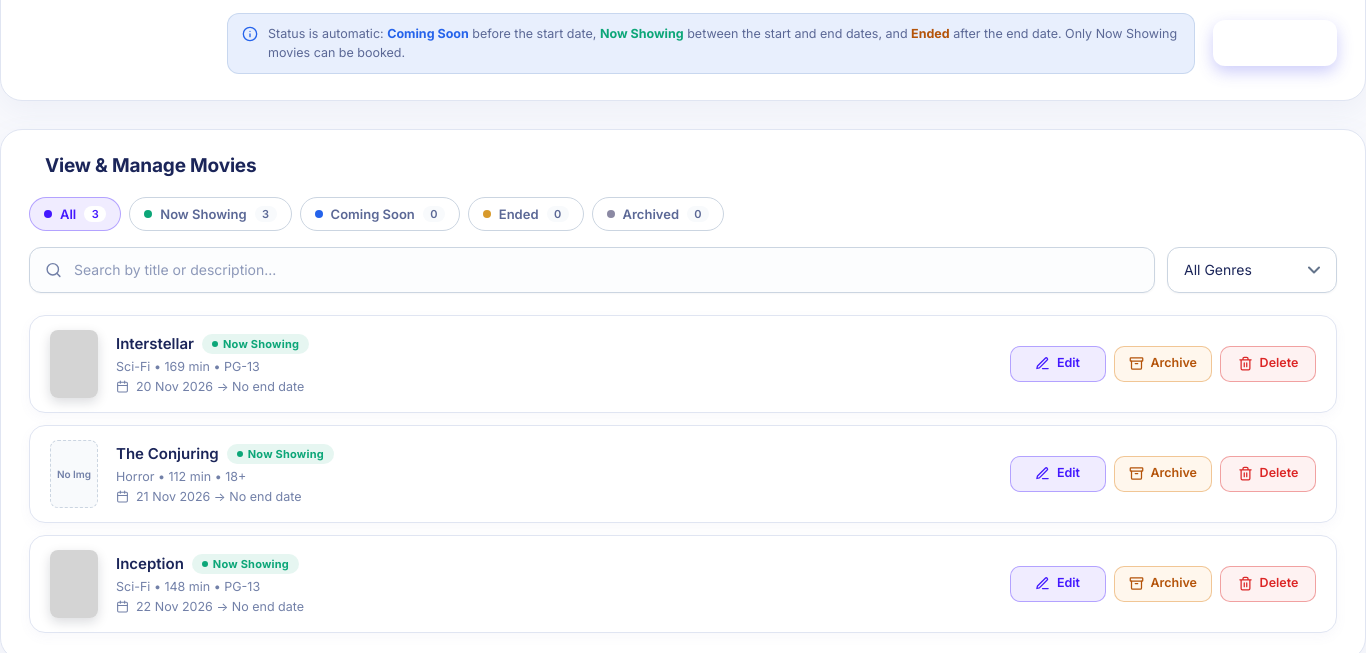
Test case: Admin Movies Page › should filter movies by title using the search field
(page scrolled)
Expected: the text "Interstellar" is shown, left=116, top=334, right=194, bottom=353
Type "Interstellar" into the field with placeholder "Search by title or description..." at (592, 270), box left=29, top=247, right=1155, bottom=293
(page scrolled)
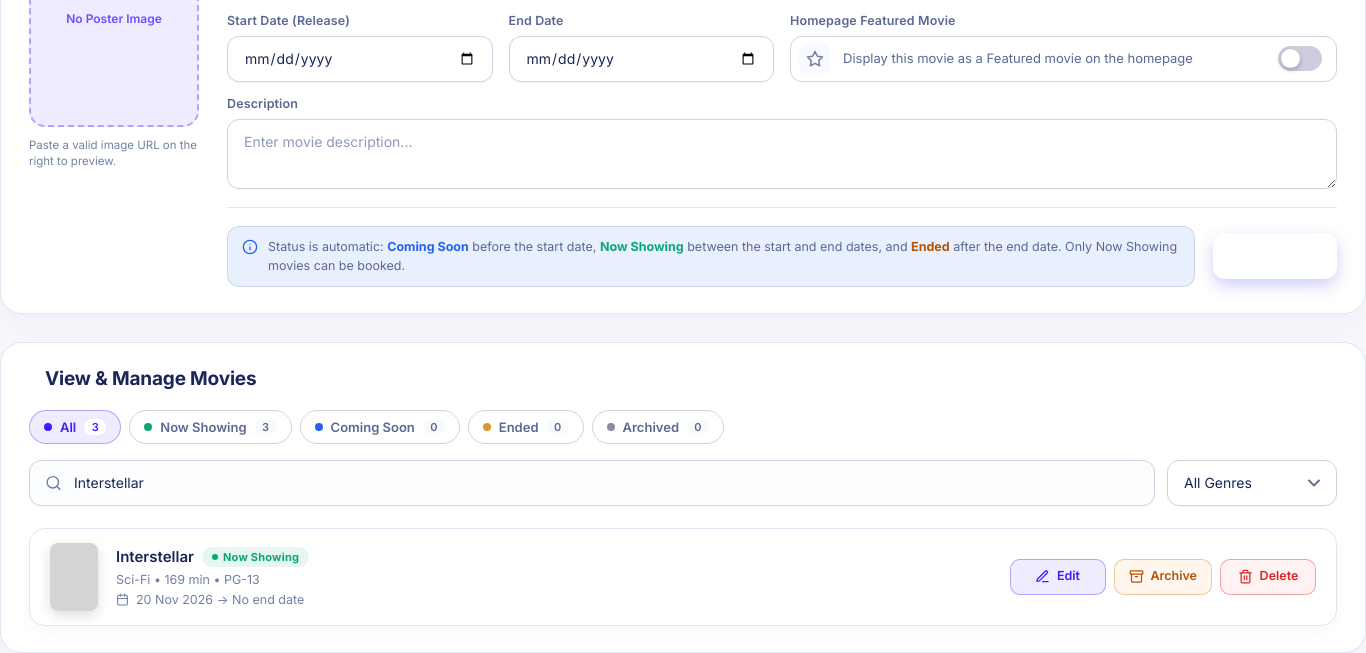
Expected: the text "Interstellar" is shown, left=116, top=547, right=194, bottom=566
Expected: the text "The Conjuring" is gone
Expected: the text "Inception" is gone
